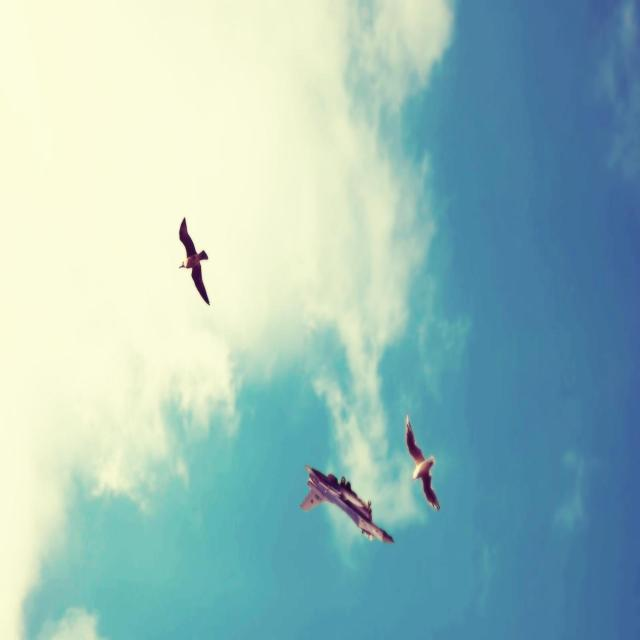airplane: (300, 463, 394, 544)
